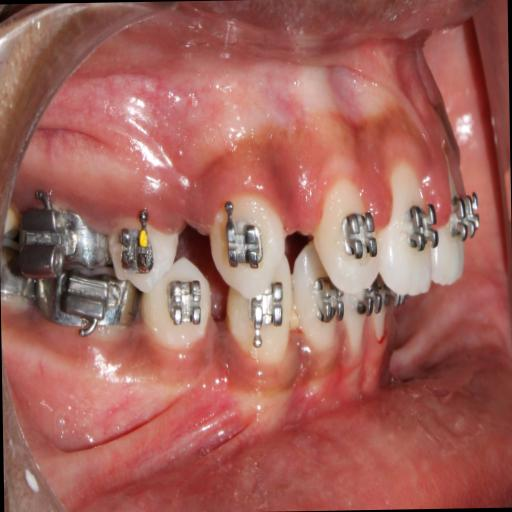correct_brace: (140, 257, 214, 355), (108, 212, 180, 290), (222, 214, 264, 278), (404, 199, 440, 254), (343, 206, 377, 264)
incorrect_brace: (310, 176, 376, 295), (114, 221, 156, 281), (163, 276, 205, 330)
